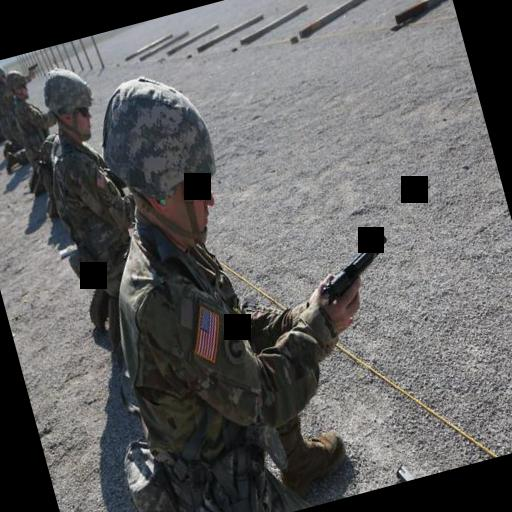Handgun: (316, 232, 398, 307)
